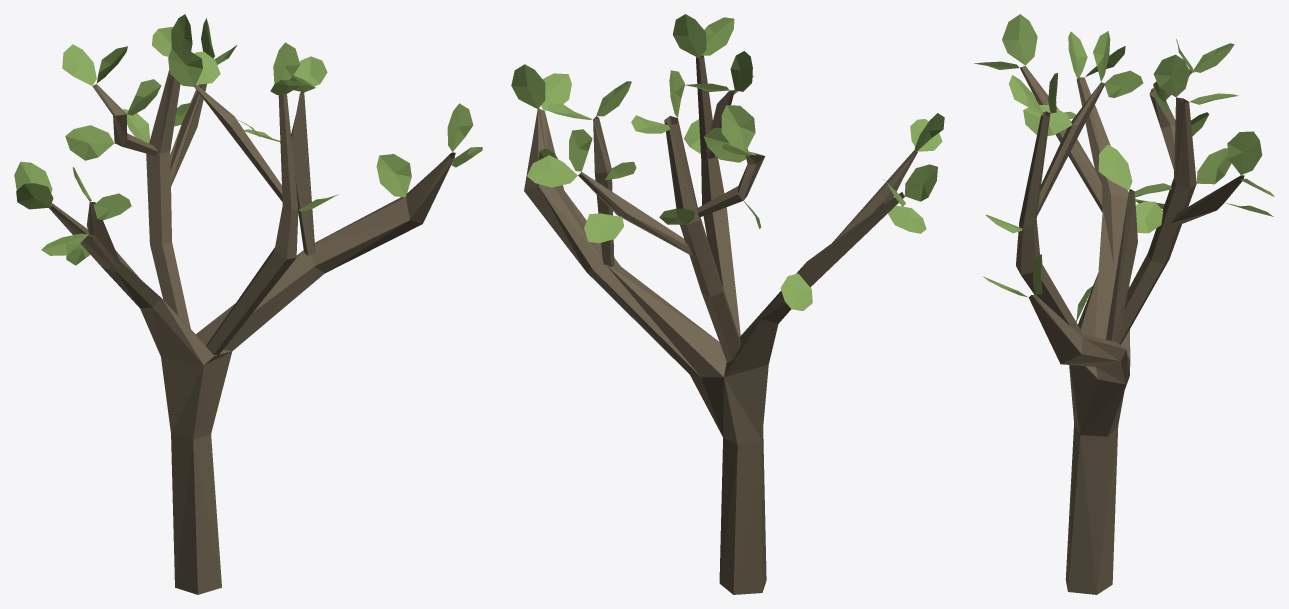
Rendered from Cherry_3.5_1.fbx.
3 renders of one model, left to right at view 1: azimuth 30°, elevation 25°; view 2: azimuth 150°, elevation 25°; view 3: azimuth 270°, elevation 25°, orthographic. The views are drawn at different scales.
Parts seen in each view (by area): view 1: Cherry_3_5_1; view 2: Cherry_3_5_1; view 3: Cherry_3_5_1.
Boxes of the visible parts, x1,y1,x2,y2 form: Cherry_3_5_1: (14,14,482,594); Cherry_3_5_1: (511,14,944,594); Cherry_3_5_1: (974,14,1274,594).
Size of the model in its own units: 256 by 299 by 149.
